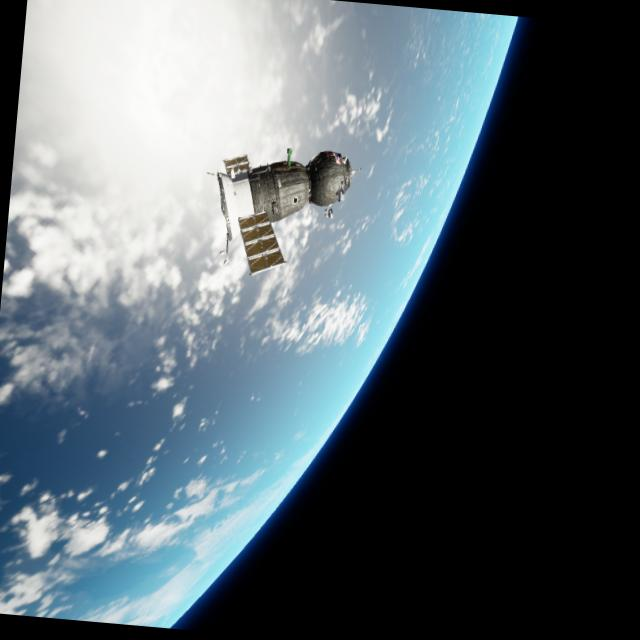Satellites revolving around earth: (200, 134, 363, 287)
